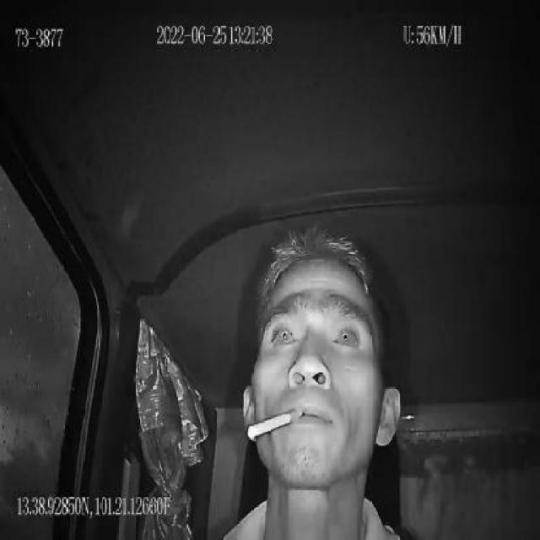smoking: (247, 409, 303, 440)
